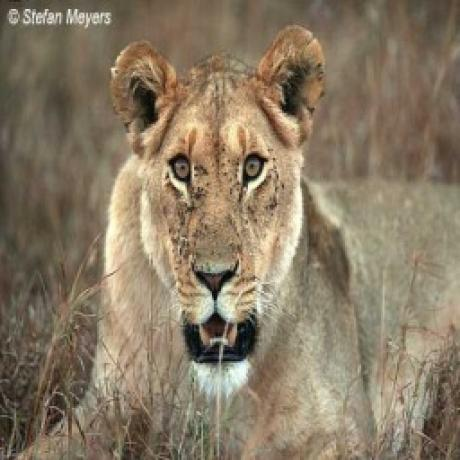Lion: (0, 21, 460, 460)
